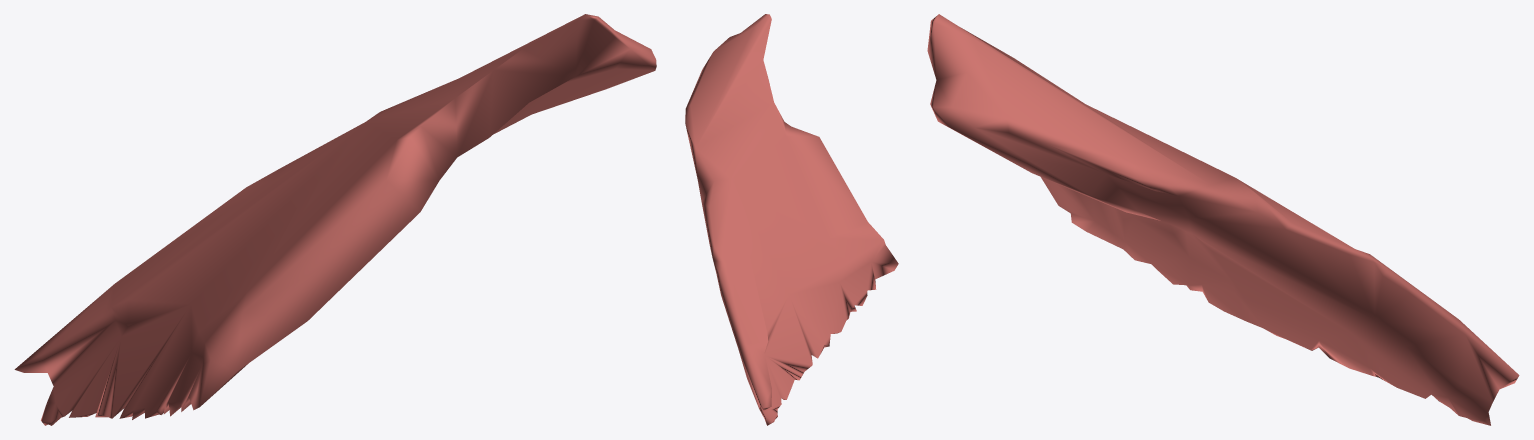
The picture shows the model from 3 angles, left to right: view 1: azimuth 30°, elevation 25°; view 2: azimuth 150°, elevation 25°; view 3: azimuth 270°, elevation 25°; orthographic projection. The views are drawn at different scales.
Visible parts, largest first — view 1: 左侧翼外肌下头; view 2: 左侧翼外肌下头; view 3: 左侧翼外肌下头.
Boxes of the visible parts, <box> form: 左侧翼外肌下头: <box>14,14,656,425</box>; 左侧翼外肌下头: <box>685,14,898,425</box>; 左侧翼外肌下头: <box>927,14,1519,425</box>.
Size of the model in its own units: 0.026 by 0.0337 by 0.0332.
